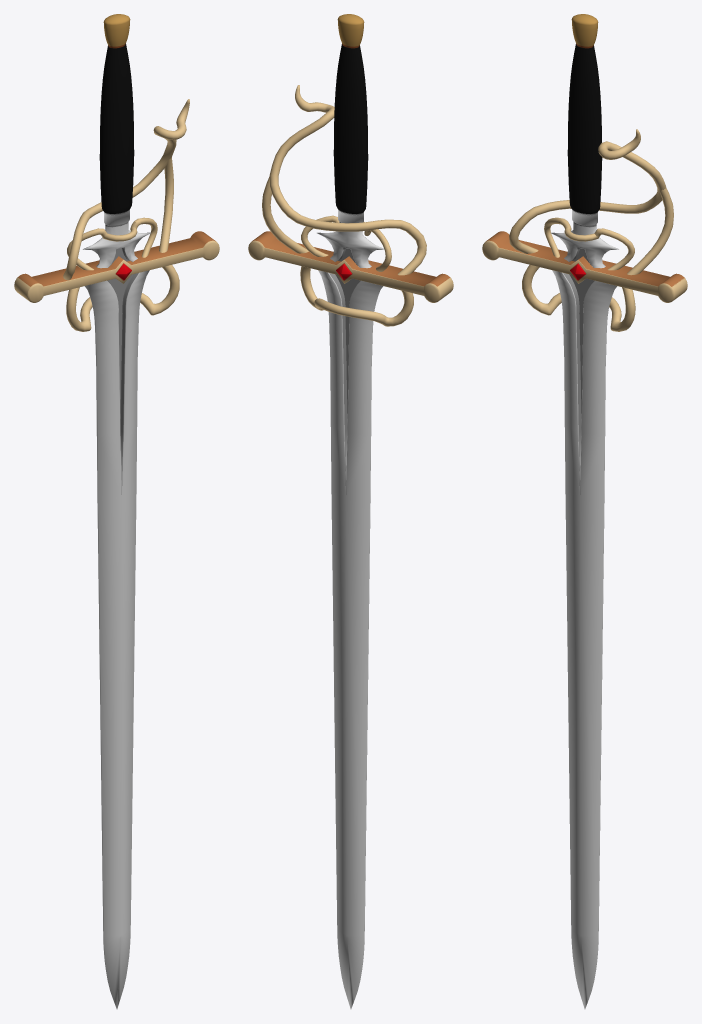
File: Model_Sword.FBX
The picture shows the model from 3 angles, left to right: view 1: azimuth 30°, elevation 25°; view 2: azimuth 150°, elevation 25°; view 3: azimuth 330°, elevation 25°; orthographic projection.
Parts seen in each view (by area): view 1: sword; view 2: sword; view 3: sword.
Boxes of the visible parts, box(x1,y1,x2,y2) form: sword: box(14, 14, 219, 1009); sword: box(248, 14, 453, 1009); sword: box(482, 14, 687, 1009).
Bounding box in the file's own units: 31.74 × 157 × 11.59.
1 material, 1 textured.
